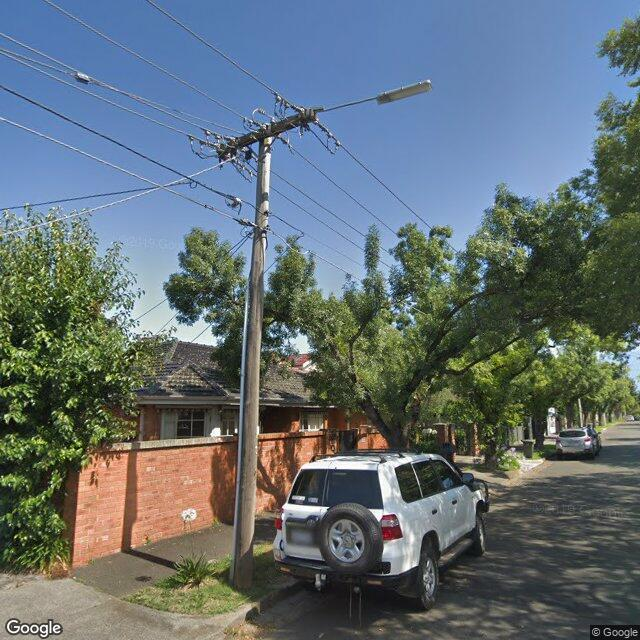crossarm: (187, 92, 342, 183)
streetlight: (314, 77, 434, 114)
timber-pole: (233, 124, 273, 591)
